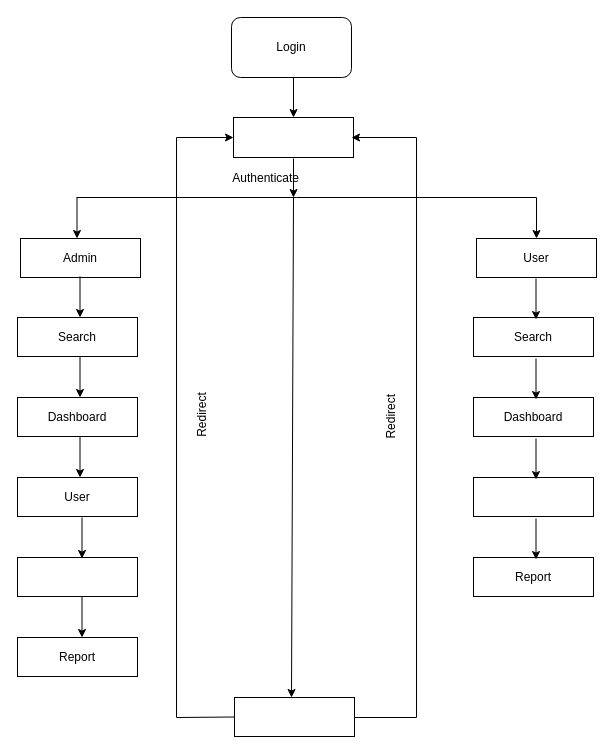
The diagram is 614 pixels wide and 754 high, and some of its shapes have lost their labels. Each missing label, with the centre of its shape:
"Log" goes at (x=533, y=496).
"Login page" goes at (x=293, y=137).
"Logout" goes at (x=294, y=716).
"Task" goes at (x=77, y=576).
